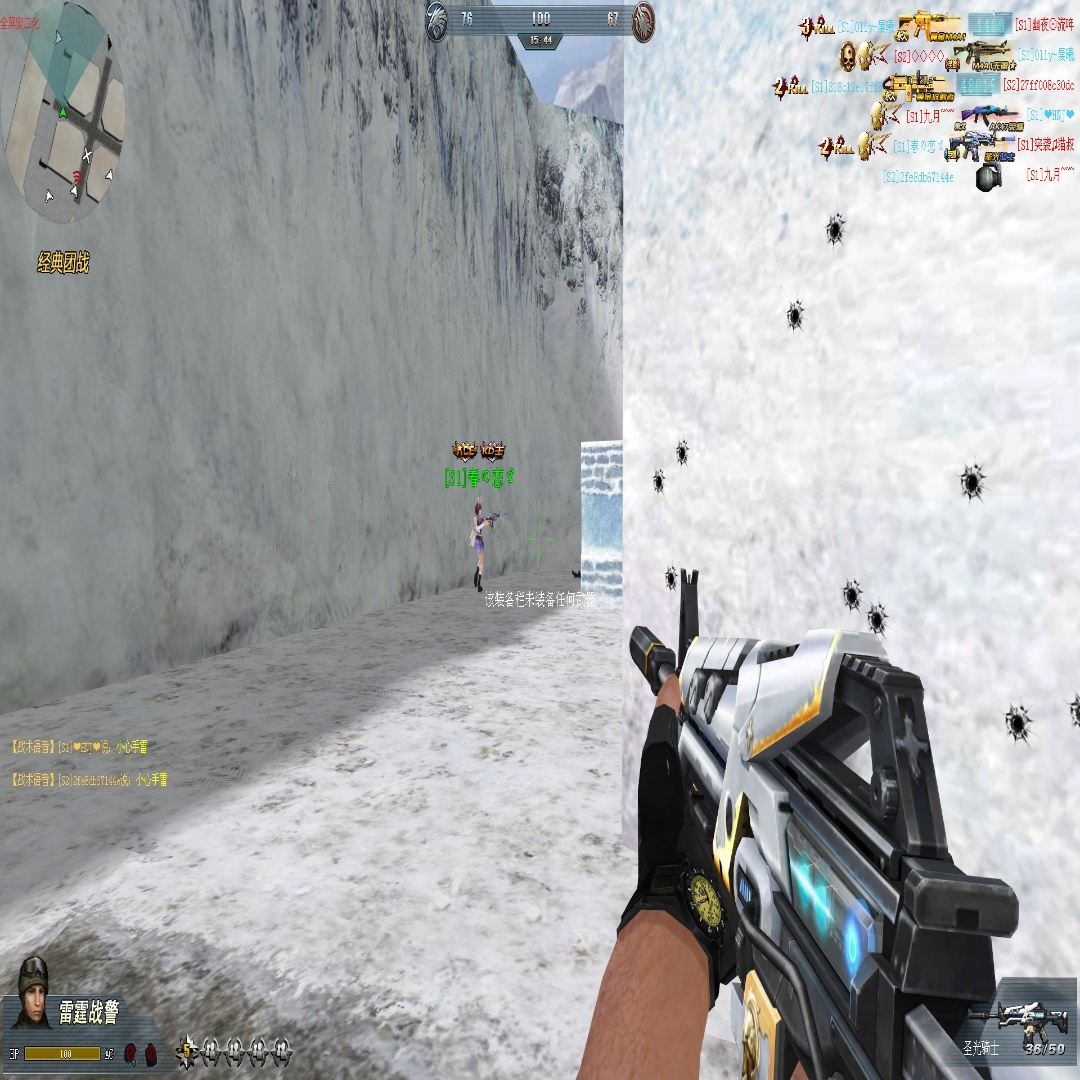ct: (471, 498, 498, 592)
